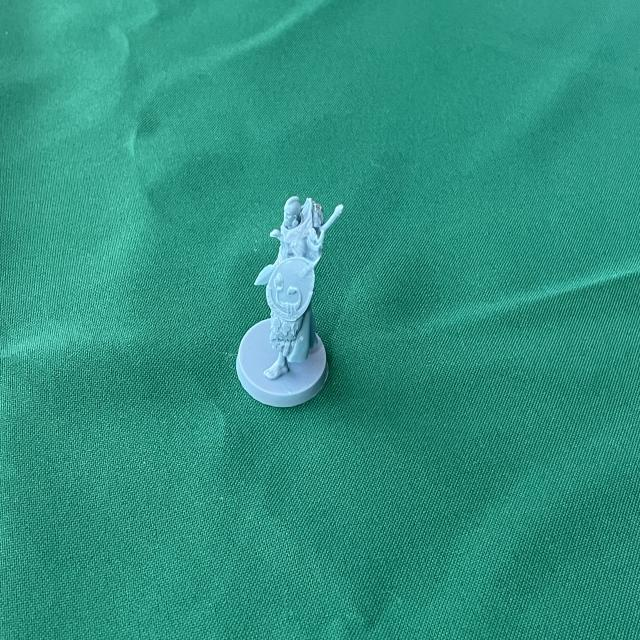isis_follower: (232, 188, 338, 408)
